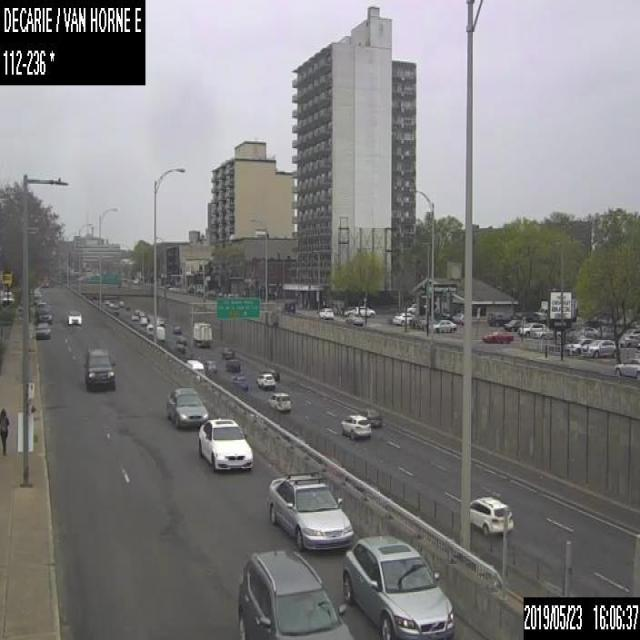Car: (339, 534, 456, 639), (237, 548, 354, 639), (265, 470, 354, 551), (197, 417, 253, 472), (468, 496, 514, 536), (85, 348, 116, 388)
Traffic-sign: (215, 296, 260, 319)
